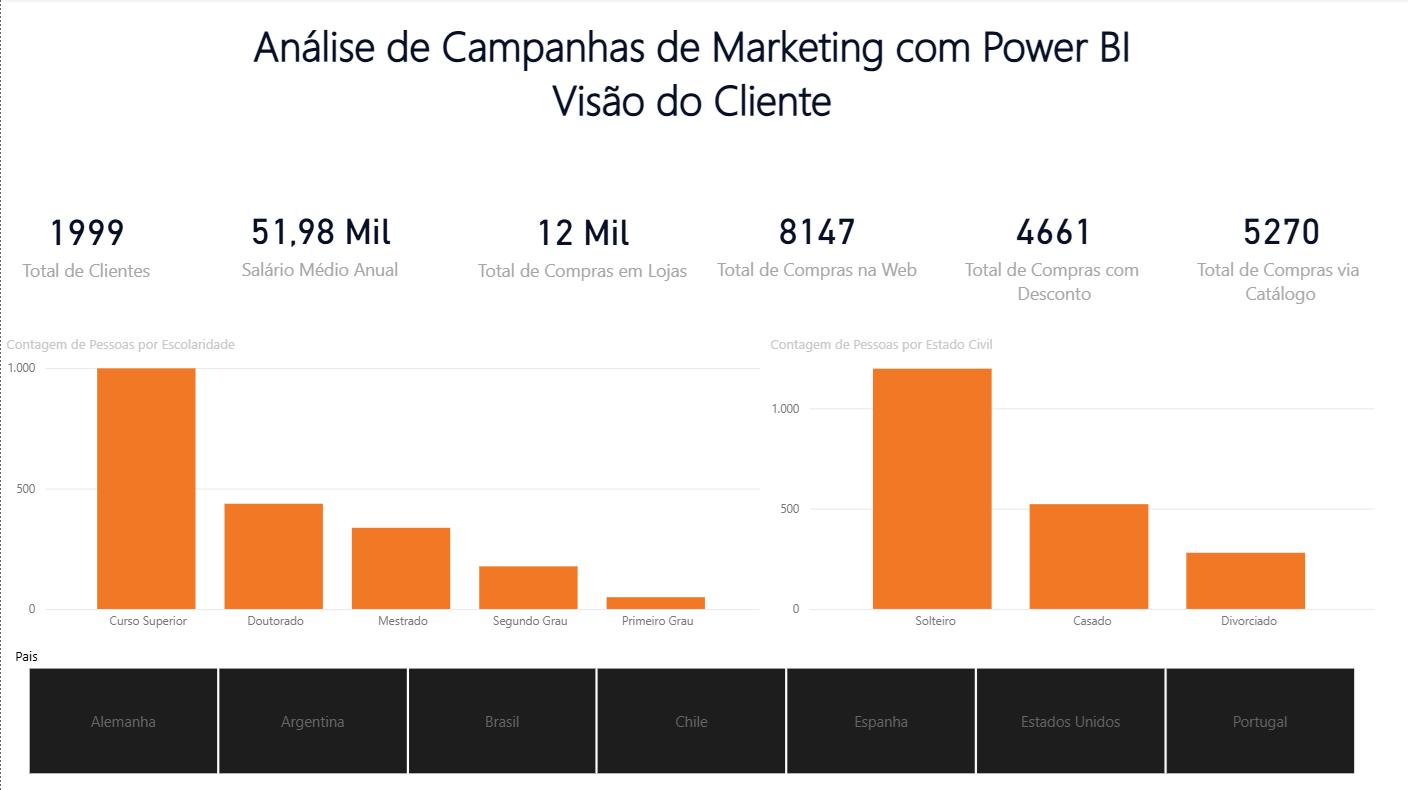

This screenshot's page, from the dashboard's own definition file:
{"tool":"powerbi","page":{"name":"Visão Cliente","canvas":[1280,720],"ordinal":0},"visuals":[{"type":"card","fields":{"Values":["CountNonNull(DadosMarketing.ID)"]},"box":[2.7,136.5,149,168.8],"z":0},{"type":"card","fields":{"Values":["Avg(DadosMarketing.Salario Anual)"]},"box":[151.7,133.8,275.6,171.5],"z":1000},{"type":"card","fields":{"Values":["Sum(DadosMarketing.Numero de Compras na Loja)"]},"box":[427.3,136.5,200.2,168.8],"z":2000},{"type":"card","fields":{"Values":["Sum(DadosMarketing.Numero de Compras na Web)"]},"box":[640.1,135.6,199.3,169.7],"z":3000},{"type":"card","fields":{"Values":["Sum(DadosMarketing.Numero de Compras com Desconto)"]},"box":[839.4,133.8,230.7,171.5],"z":4000},{"type":"card","fields":{"Values":["Sum(DadosMarketing.Numero de Compras via Catalogo)"]},"box":[1070.1,133.8,180.4,171.5],"z":5000},{"type":"textbox","box":[2.7,11.7,1247.9,123],"z":6000},{"type":"columnChart","title":"Contagem de Pessoas por Escolaridade","fields":{"Category":["DadosMarketing.Escolaridade"],"Y":["CountNonNull(DadosMarketing.ID)"]},"box":[0,305.2,692.7,277.5],"z":7000},{"type":"columnChart","title":"Contagem de Pessoas por Estado Civil","fields":{"Category":["DadosMarketing.Estado Civil"],"Y":["CountNonNull(DadosMarketing.ID)"]},"box":[693.1,305.2,557.5,277.4],"z":8000},{"type":"slicer","fields":{"Values":["DadosMarketing.Pais"]},"box":[0,582.6,1250.6,127.5],"z":9000}]}

Visuals, with their boxes in screenshot pixels (x1, y1, x2, y2), scaled from the page's 1280x720 canvas onto the 1408x790 screenshot:
card - CountNonNull(DadosMarketing.ID): bbox(3, 150, 167, 335)
card - Avg(DadosMarketing.Salario Anual): bbox(167, 147, 470, 335)
card - Sum(DadosMarketing.Numero de Compras na Loja): bbox(470, 150, 690, 335)
card - Sum(DadosMarketing.Numero de Compras na Web): bbox(704, 149, 923, 335)
card - Sum(DadosMarketing.Numero de Compras com Desconto): bbox(923, 147, 1177, 335)
card - Sum(DadosMarketing.Numero de Compras via Catalogo): bbox(1177, 147, 1376, 335)
textbox: bbox(3, 13, 1376, 148)
"Contagem de Pessoas por Escolaridade" columnChart: bbox(0, 335, 762, 639)
"Contagem de Pessoas por Estado Civil" columnChart: bbox(762, 335, 1376, 639)
slicer - DadosMarketing.Pais: bbox(0, 639, 1376, 779)
